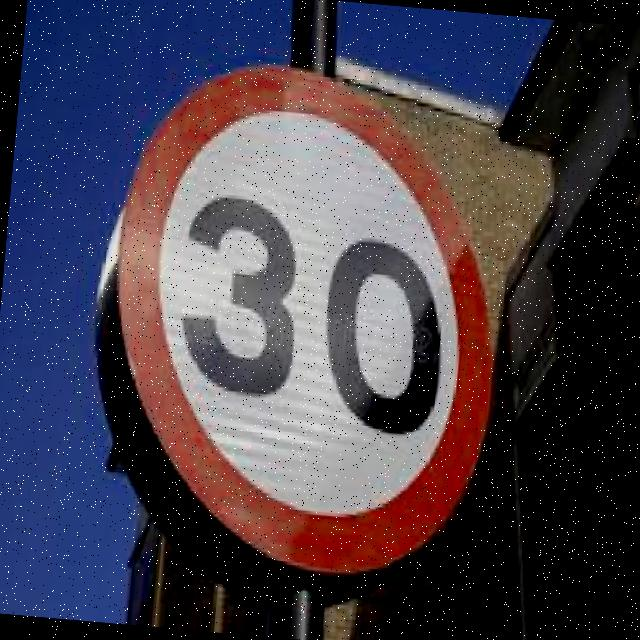Ograniczenie predkosci do 30: (92, 52, 524, 602)
